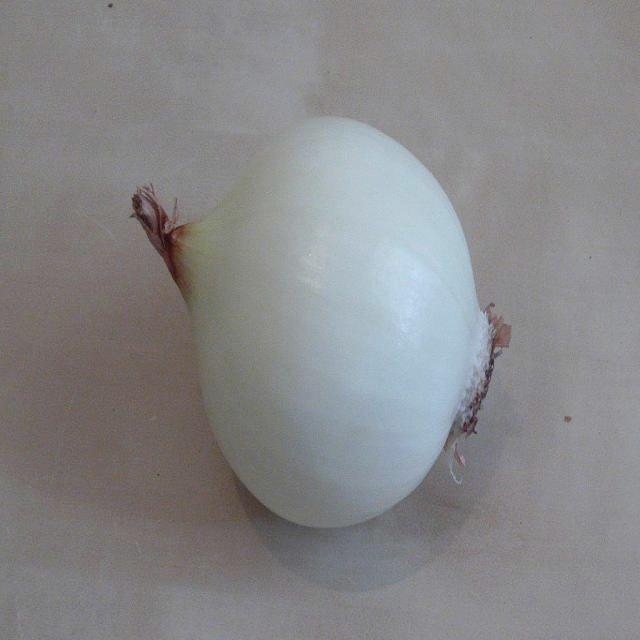onion: (133, 105, 508, 544)
